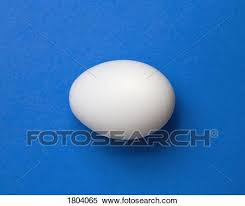egg: (69, 60, 175, 142)
